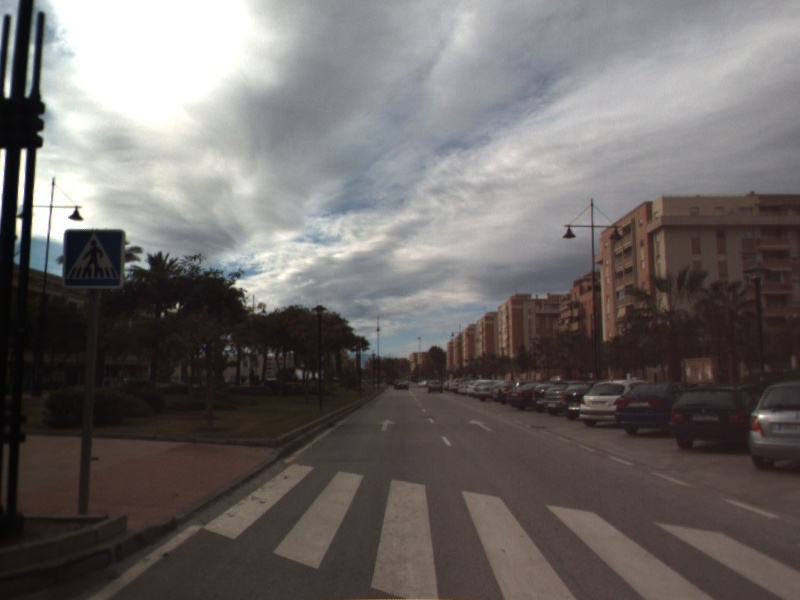STRAIGHT: (467, 417, 494, 433), (376, 417, 397, 433)
